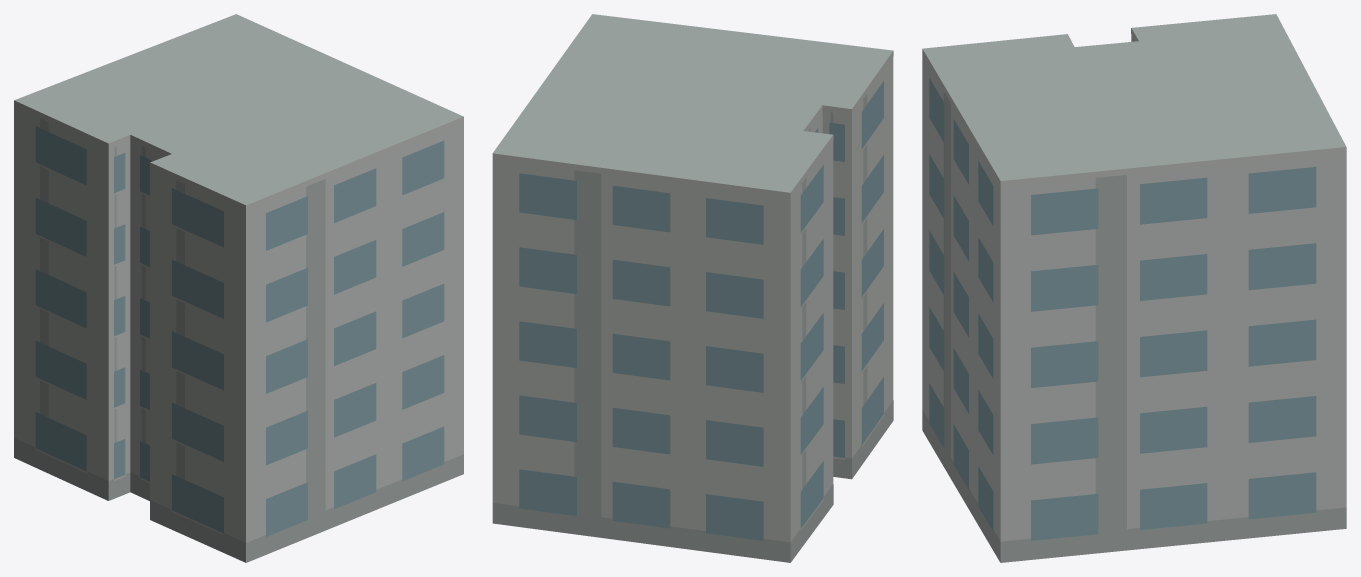
File: survey-upis-32828116.glb
3 renders of one model, left to right at view 1: azimuth 30°, elevation 25°; view 2: azimuth 150°, elevation 25°; view 3: azimuth 270°, elevation 25°, orthographic. The views are drawn at different scales.
Visible parts, largest first — view 1: survey-upis-32828116.tmp; view 2: survey-upis-32828116.tmp; view 3: survey-upis-32828116.tmp.
Part boxes in pixels (left/top/right/bottom): survey-upis-32828116.tmp: left=14, top=14, right=463, bottom=562; survey-upis-32828116.tmp: left=492, top=14, right=893, bottom=562; survey-upis-32828116.tmp: left=922, top=14, right=1346, bottom=562.
Bounding box in the file's own units: 14.14 × 15.05 × 15.16.
